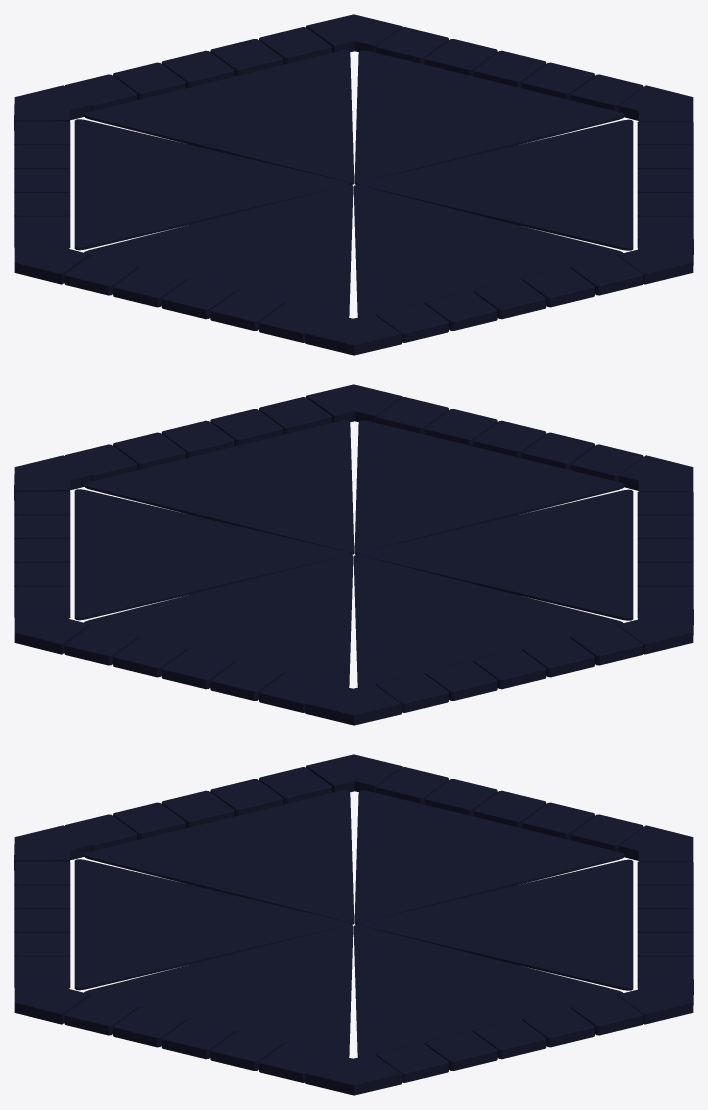
The model's file is tiles.glb.
3 renders of one model, top to bottom at view 1: azimuth 30°, elevation 25°; view 2: azimuth 150°, elevation 25°; view 3: azimuth 270°, elevation 25°, orthographic.
Visible parts, largest first — view 1: Cube.009 (×6), square (×24), square.033 (×6), square.001 (×6); view 2: Cube.009 (×6), square (×24), square.033 (×6), square.001 (×6); view 3: Cube.009 (×6), square (×24), square.033 (×6), square.001 (×6).
Boxes of the visible parts, x1=… form: Cube.009 (×6): x1=74, y1=50, x2=633, y2=317; square (×24): x1=14, y1=27, x2=693, y2=342; square.033 (×6): x1=14, y1=14, x2=693, y2=355; square.001 (×6): x1=14, y1=50, x2=693, y2=319; Cube.009 (×6): x1=74, y1=420, x2=633, y2=687; square (×24): x1=14, y1=397, x2=693, y2=712; square.033 (×6): x1=14, y1=384, x2=693, y2=725; square.001 (×6): x1=14, y1=420, x2=693, y2=689; Cube.009 (×6): x1=74, y1=790, x2=633, y2=1057; square (×24): x1=14, y1=767, x2=693, y2=1082; square.033 (×6): x1=14, y1=754, x2=693, y2=1095; square.001 (×6): x1=14, y1=790, x2=693, y2=1059.
Bounding box in the file's own units: 2.79 × 0.04 × 2.42.
